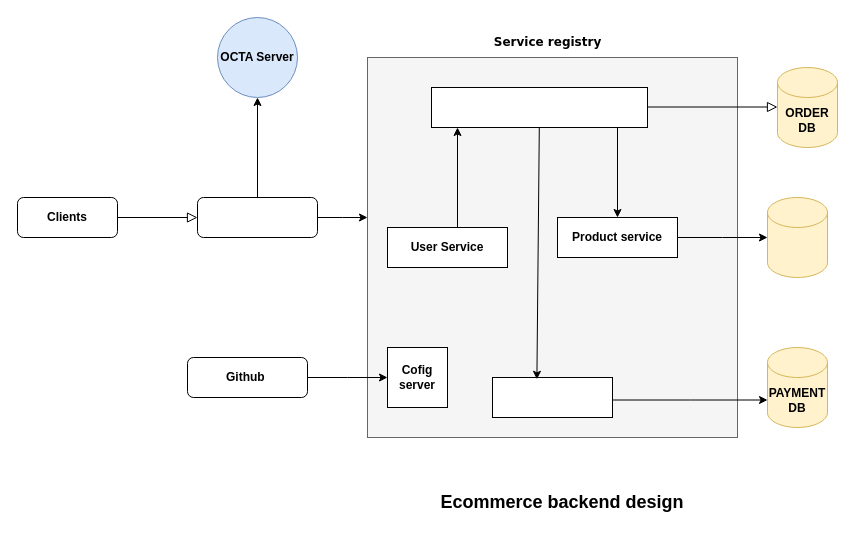
The diagram is 855 pixels wide and 535 high, and some of its shapes have lost their labels. Each missing label, with the centre of its shape:
API gateway: point (257, 217)
Order Service: point (539, 107)
Payment Service: point (552, 397)
PRODUCT DB: point (797, 237)
